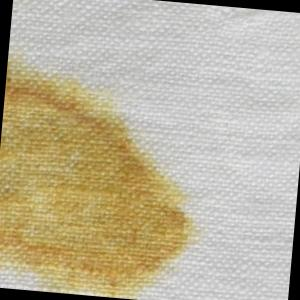Oil Stain: (1, 57, 218, 300)
